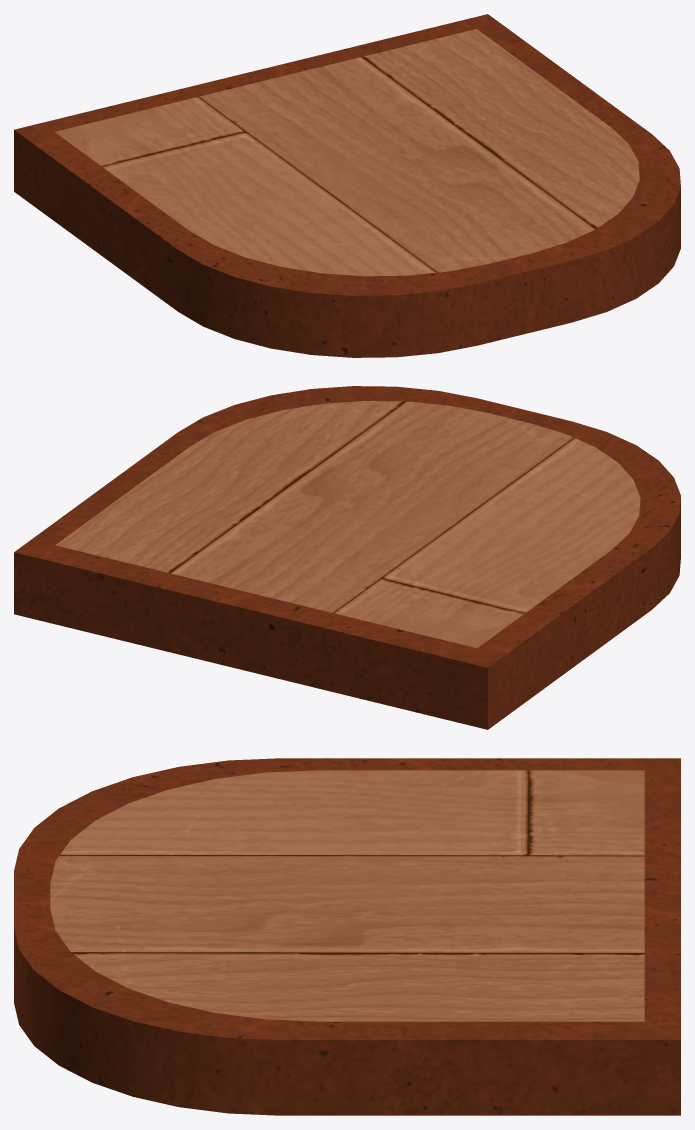
File: FloorTile_TC_2.glb
3 renders of one model, top to bottom at view 1: azimuth 30°, elevation 25°; view 2: azimuth 150°, elevation 25°; view 3: azimuth 270°, elevation 25°, orthographic. The views are drawn at different scales.
Visible parts, largest first — view 1: Plane.005, Cube.004; view 2: Plane.005, Cube.004; view 3: Plane.005, Cube.004.
Boxes of the visible parts, box(x1,y1,x2,y2) form: Plane.005: box(55, 29, 639, 276); Cube.004: box(14, 14, 680, 357); Plane.005: box(55, 401, 640, 648); Cube.004: box(14, 386, 680, 729); Plane.005: box(50, 770, 644, 1021); Cube.004: box(14, 758, 680, 1115).
Size of the model in its own units: 2 by 0.26 by 2.
Materials: 2 (2 with a texture image).
